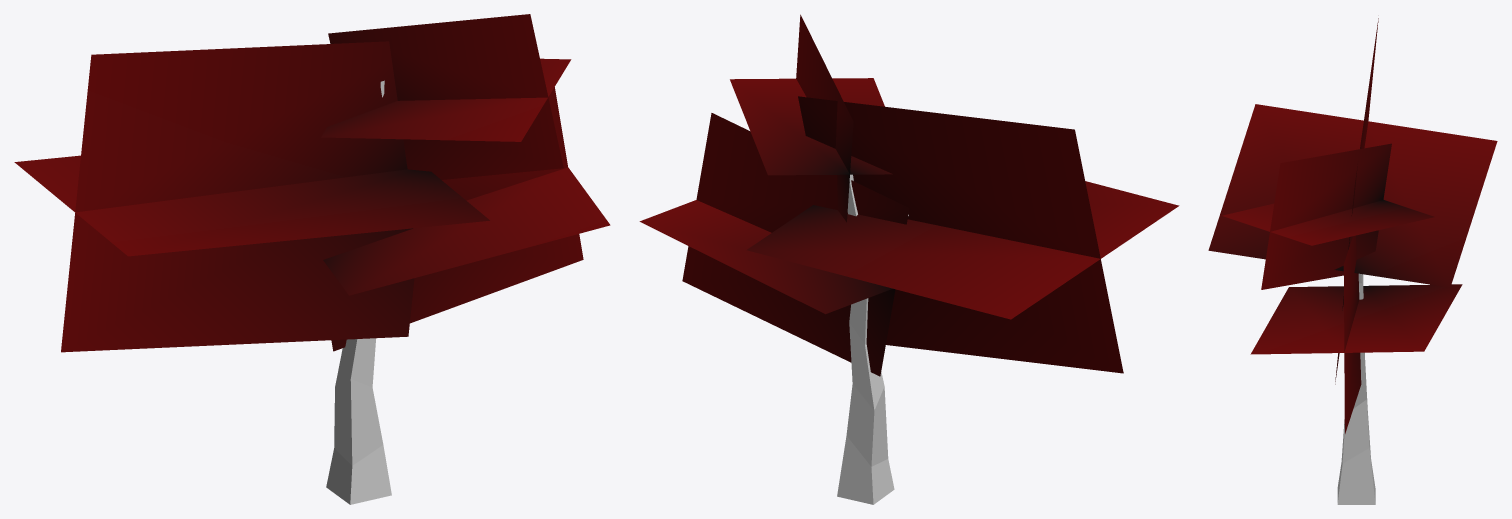
The model's file is WideTree01.1.fbx.
The picture shows the model from 3 angles, left to right: view 1: azimuth 30°, elevation 25°; view 2: azimuth 150°, elevation 25°; view 3: azimuth 270°, elevation 25°; orthographic projection. The views are drawn at different scales.
Visible parts, largest first — view 1: LEAFES, TREE; view 2: LEAFES, TREE; view 3: LEAFES, TREE.
Part boxes in pixels (x1,y1,x2,y2): LEAFES: (14, 14, 610, 352); TREE: (326, 80, 391, 504); LEAFES: (639, 14, 1179, 376); TREE: (837, 174, 908, 504); LEAFES: (1208, 18, 1497, 433); TREE: (1337, 273, 1375, 504).
Size of the model in its own units: 2.12 by 1.92 by 1.31.
